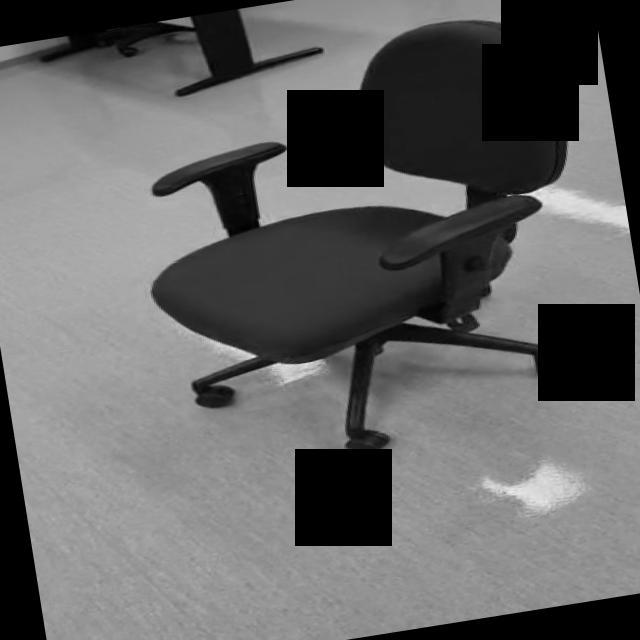chair: (117, 3, 620, 485)
